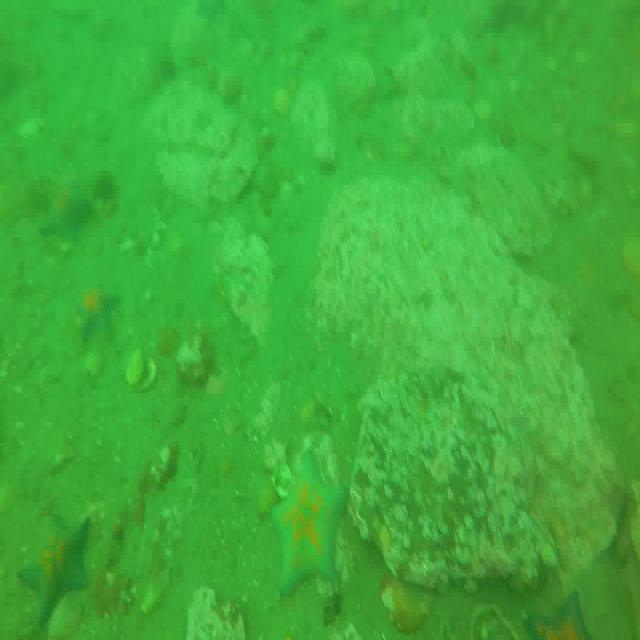scallop: (128, 342, 158, 394)
starfish: (274, 460, 349, 601), (18, 519, 90, 627), (36, 173, 95, 245), (525, 588, 596, 640), (71, 280, 120, 346), (197, 0, 229, 24)
